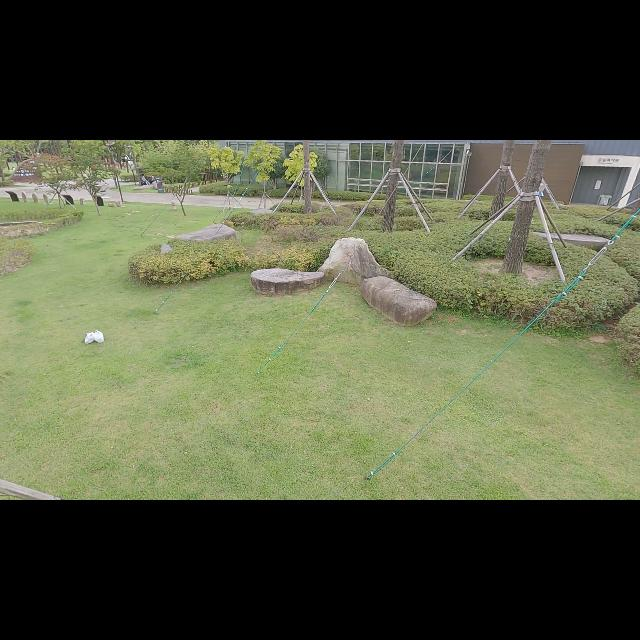trash: (84, 332, 96, 344), (94, 330, 105, 342)
